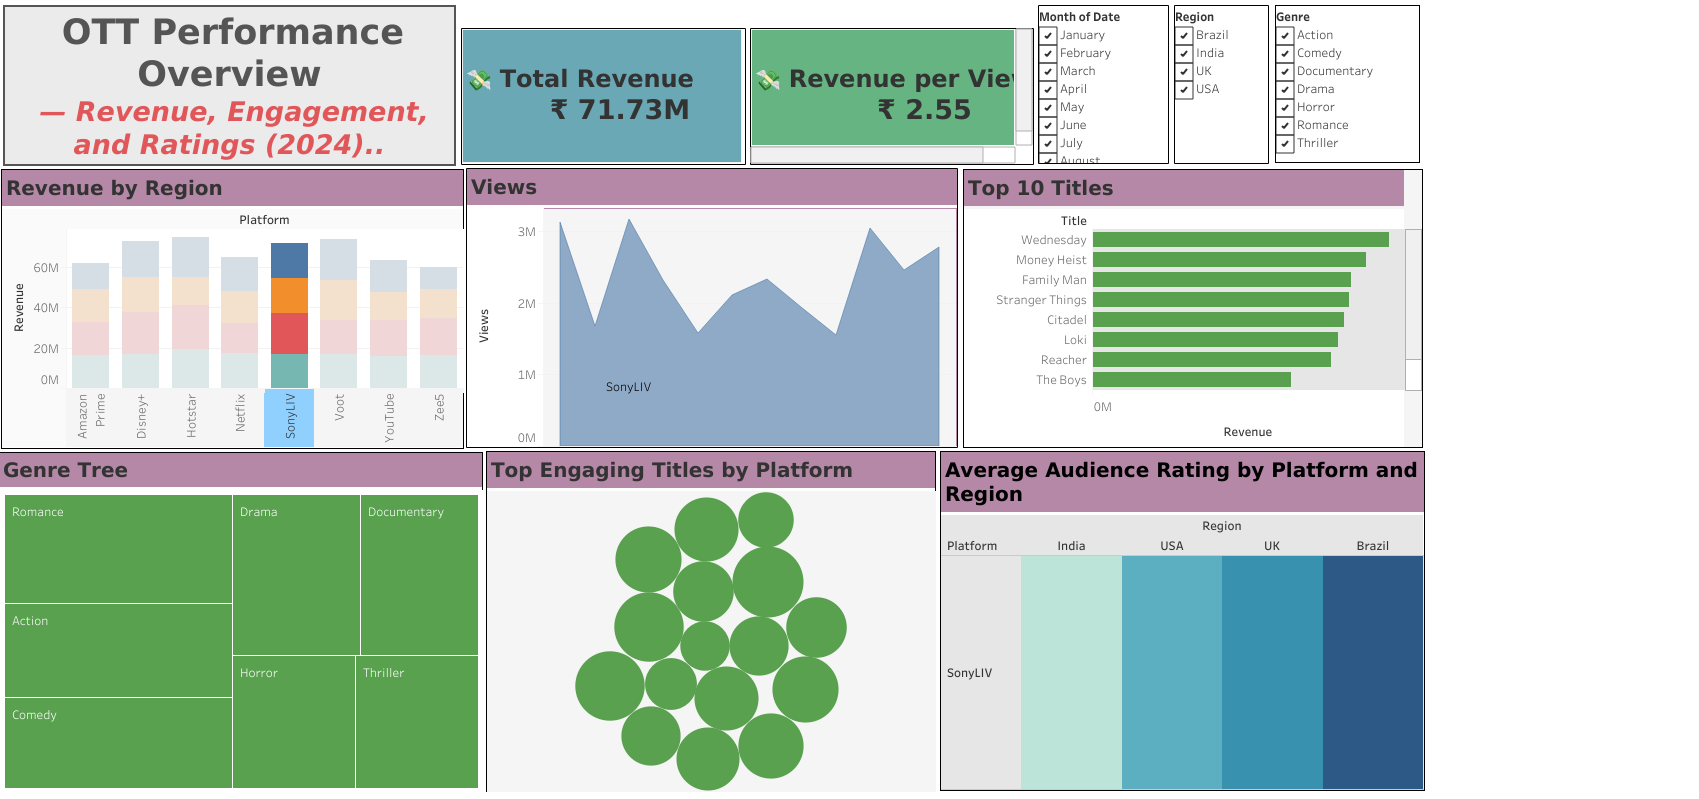

The dashboard page shown, as its layout file describes it:
{"tool":"tableau","page":{"name":"Dashboard 1","canvas":[1000,1000],"units":"permille","ordinal":0},"visuals":[{"type":"text","box":[1.8,6.2,266.4,201.2]},{"type":"filter","title":"Views","param":"[federated.07yf63z0haxw3a1d0bdrx1rfx7md].[mn:Date:ok]","box":[610.7,6.2,76.6,198.8]},{"type":"filter","title":"Revenue by Region","param":"[federated.07yf63z0haxw3a1d0bdrx1rfx7md].[none:Region:nk]","box":[690.4,6.2,55.9,198.8]},{"type":"filter","title":"Revenue by Region","param":"[federated.07yf63z0haxw3a1d0bdrx1rfx7md].[none:Genre:nk]","box":[750.2,6.2,85.1,197.5]},{"type":"worksheet","title":"Total Revenue","mark":"Automatic","box":[271.1,35,167.9,171.2]},{"type":"worksheet","title":"Revenue","mark":"Automatic","box":[441.4,35,166.8,171.2]},{"type":"worksheet","title":"Views","mark":"Automatic","rows":["Views"],"cols":["Date"],"box":[274,210,289.3,350]},{"type":"worksheet","title":"Revenue by Region","mark":"Automatic","rows":["Revenue"],"cols":["Platform"],"box":[0.6,211,272.4,350.8]},{"type":"worksheet","title":"Top 10 Titles","mark":"Automatic","rows":["Title"],"cols":["Revenue"],"box":[566.5,211,270.6,349.6]},{"type":"worksheet","title":"Top Engaging Titles by Platform","mark":"Circle","box":[285.8,563.8,264.6,426.2]},{"type":"worksheet","title":"Average Audience Rating by Platform and Region","mark":"Automatic","rows":["Platform"],"cols":["Region"],"box":[552.7,563.8,285.2,425]}]}

Visuals, with their boxes on the dashboard's canvas, which has no fixed pixel size, in thousandths of its width and height (x1, y1, x2, y2). These are canvas units, not pixel positions in the 1699x799 screenshot, which may show the page scaled, cropped or inside an application window:
text: Rect(2, 6, 268, 207)
"Views" filter: Rect(611, 6, 687, 205)
"Revenue by Region" filter: Rect(690, 6, 746, 205)
"Revenue by Region" filter: Rect(750, 6, 835, 204)
"Total Revenue" worksheet: Rect(271, 35, 439, 206)
"Revenue" worksheet: Rect(441, 35, 608, 206)
"Views" worksheet: Rect(274, 210, 563, 560)
"Revenue by Region" worksheet: Rect(1, 211, 273, 562)
"Top 10 Titles" worksheet: Rect(566, 211, 837, 561)
"Top Engaging Titles by Platform" worksheet (Circle marks): Rect(286, 564, 550, 990)
"Average Audience Rating by Platform and Region" worksheet: Rect(553, 564, 838, 989)
